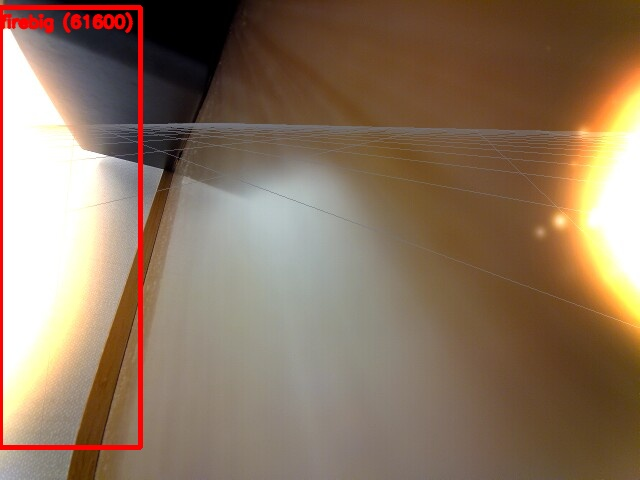firebig: (0, 7, 140, 447)
